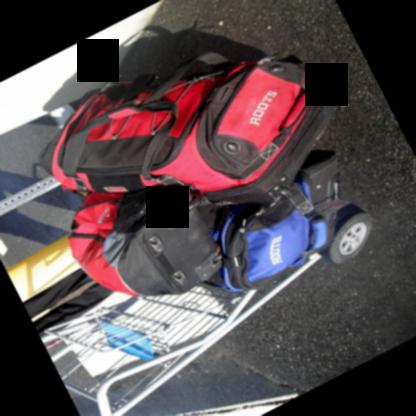backpack: (66, 186, 223, 295)
handbag: (221, 196, 309, 291)
